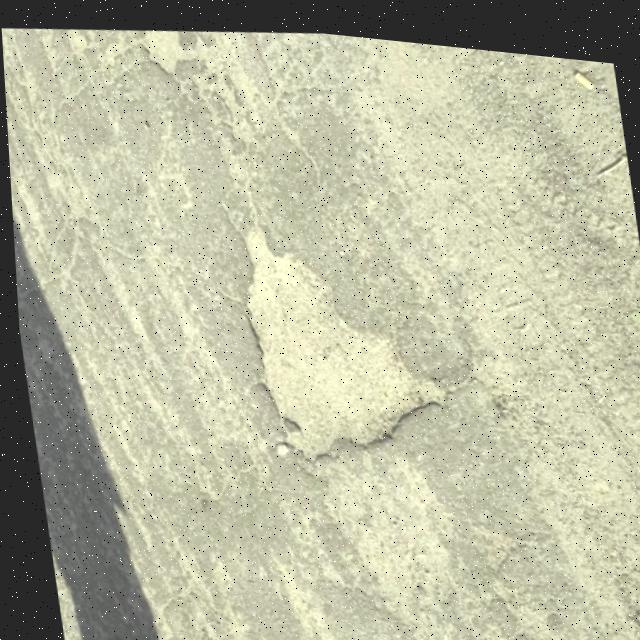Pothole: (224, 198, 455, 481), (137, 22, 192, 80)
